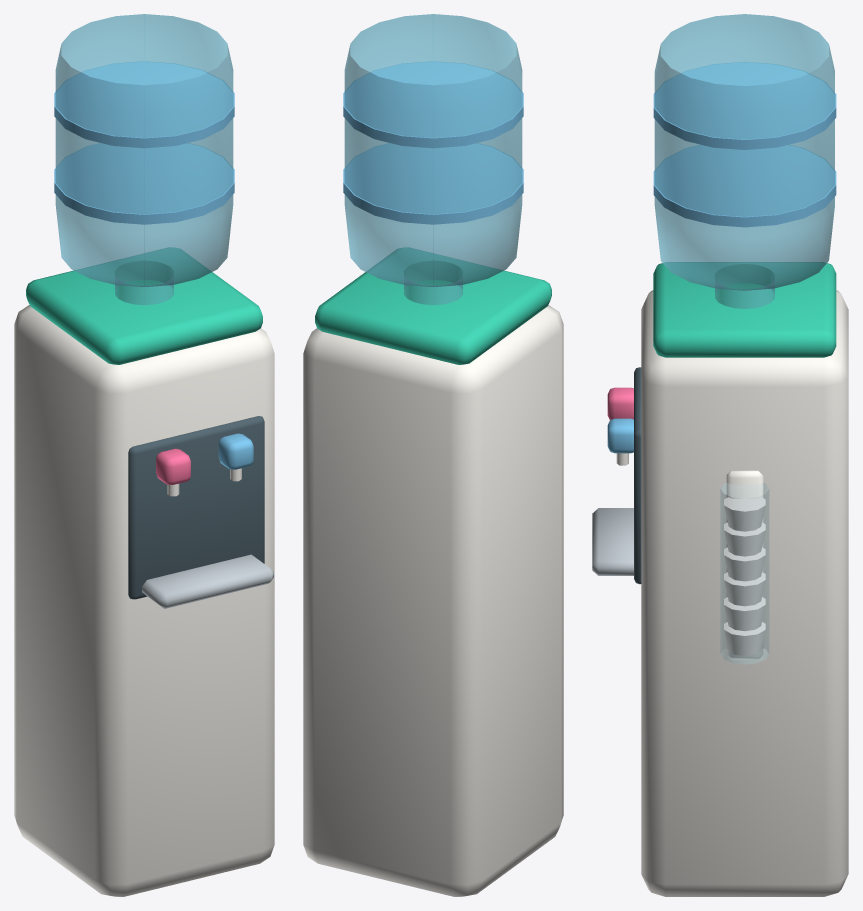
The model's file is water_cooler.glb.
3 views of the same model, side by side, from view 1: azimuth 30°, elevation 25°; view 2: azimuth 150°, elevation 25°; view 3: azimuth 270°, elevation 25° (orthographic).
Parts seen in each view (by area): view 1: WaterCooler; view 2: WaterCooler; view 3: WaterCooler.
Boxes of the visible parts, x1,y1,x2,y2 form: WaterCooler: [14, 14, 274, 896]; WaterCooler: [303, 14, 563, 896]; WaterCooler: [592, 14, 848, 896].
Size of the model in its own units: 0.41 by 1.49 by 0.42.
